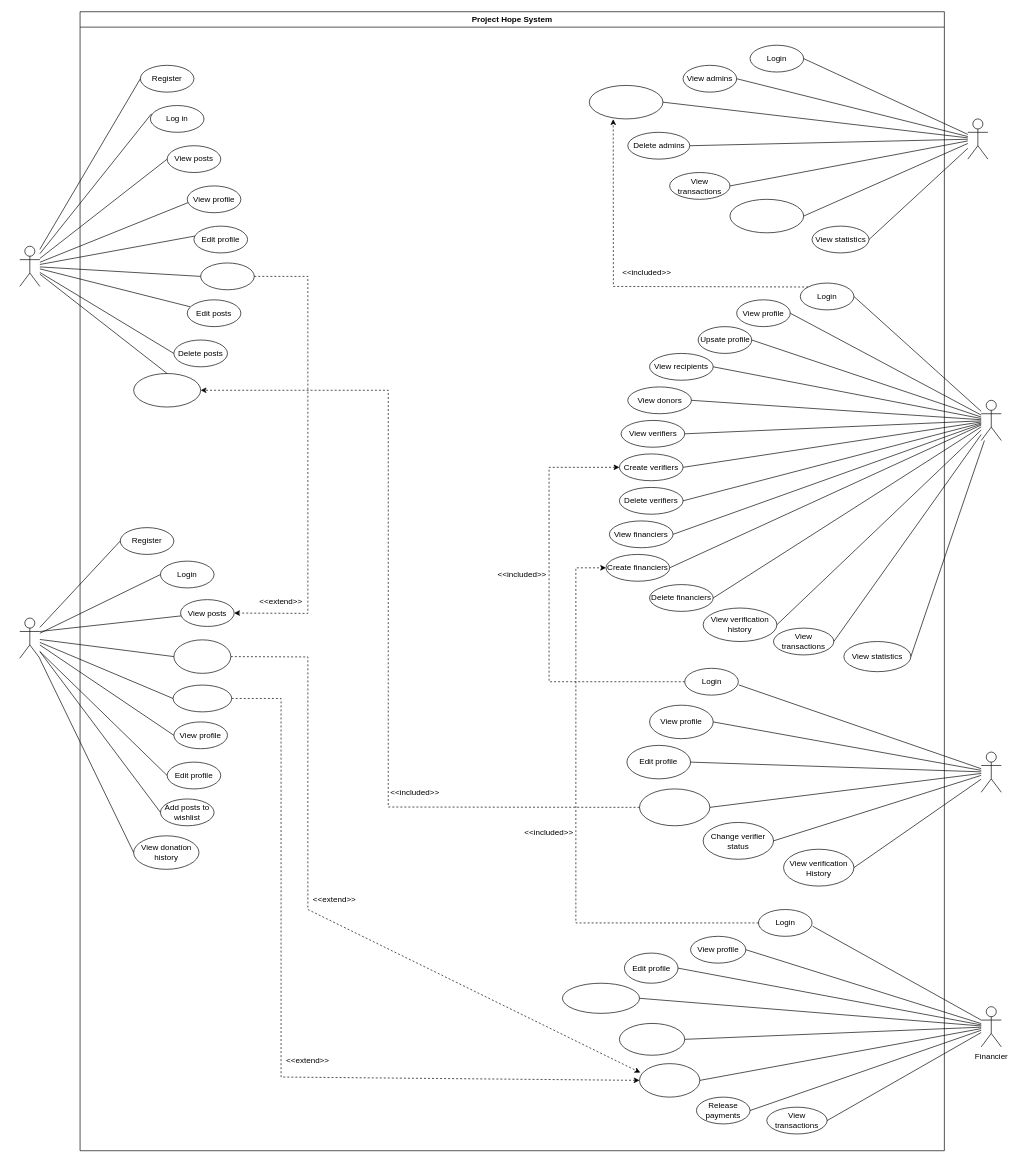
Some shapes in this 1019 by 1162 pixel diagram are drawn without their labels. Each missing label, with the centre of its shape:
Admin: point 991,420
Allocate funds from pool: point 669,1080
Create admins: point 626,102
Create new posts: point 227,276
Donate to pool: point 202,698
Donate to posts: point 202,656
Doner: point 29,637
Recepient: point 29,266
Send a verification request: point 167,390
Super admin: point 977,138
Verifier: point 991,771
View pending posts to fund: point 652,1039
View pool balance: point 601,998
View verification hisotory: point 766,216
View verification requests: point 674,807
